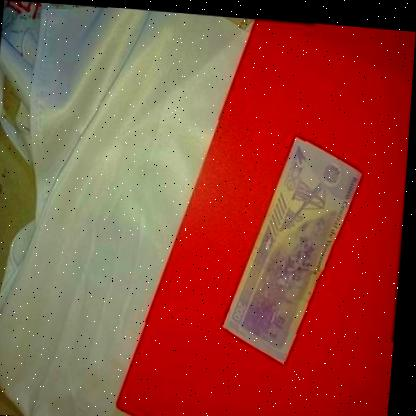two_hundred-back-vef: (223, 126, 367, 364)
